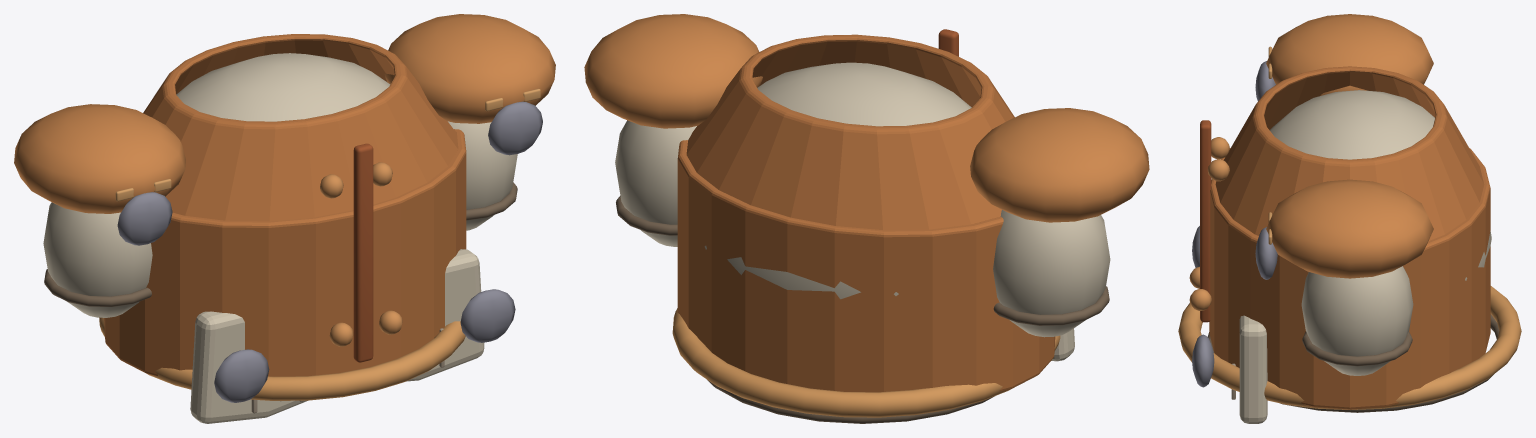
File: coppermail.glb
3 renders of one model, left to right at view 1: azimuth 30°, elevation 25°; view 2: azimuth 150°, elevation 25°; view 3: azimuth 270°, elevation 25°, orthographic. The views are drawn at different scales.
Parts seen in each view (by area): view 1: _copper_hammered_band, _cloth_skirt, _box, _box.002, _box.004, _stone_copper_stud, _bound_cuff; view 2: _copper_hammered_band, _cloth_skirt, _box, _box.002, _box.004, _bound_cuff; view 3: _copper_hammered_band, _cloth_skirt, _box.002, _box.004, _box, _stone_copper_stud, _bound_cuff.
Boxes of the visible parts, bbox=[...] form: _copper_hammered_band: bbox=[104, 34, 466, 376]; _cloth_skirt: bbox=[43, 53, 517, 423]; _box: bbox=[14, 104, 185, 213]; _box.002: bbox=[384, 14, 555, 123]; _box.004: bbox=[99, 143, 465, 400]; _stone_copper_stud: bbox=[117, 101, 542, 402]; _bound_cuff: bbox=[44, 182, 517, 401]; _copper_hammered_band: bbox=[677, 34, 1055, 392]; _cloth_skirt: bbox=[615, 62, 1110, 361]; _box: bbox=[970, 108, 1149, 222]; _box.002: bbox=[584, 14, 762, 128]; _box.004: bbox=[672, 29, 1060, 417]; _bound_cuff: bbox=[616, 196, 1109, 423]; _copper_hammered_band: bbox=[1209, 66, 1490, 409]; _cloth_skirt: bbox=[1231, 90, 1491, 423]; _box.002: bbox=[1266, 179, 1433, 278]; _box.004: bbox=[1178, 120, 1521, 409]; _box: bbox=[1266, 14, 1433, 95]; _stone_copper_stud: bbox=[1192, 61, 1277, 387]; _bound_cuff: bbox=[1207, 314, 1499, 412].
Bounding box in the file's own units: 0.884 × 0.4699 × 0.552.
